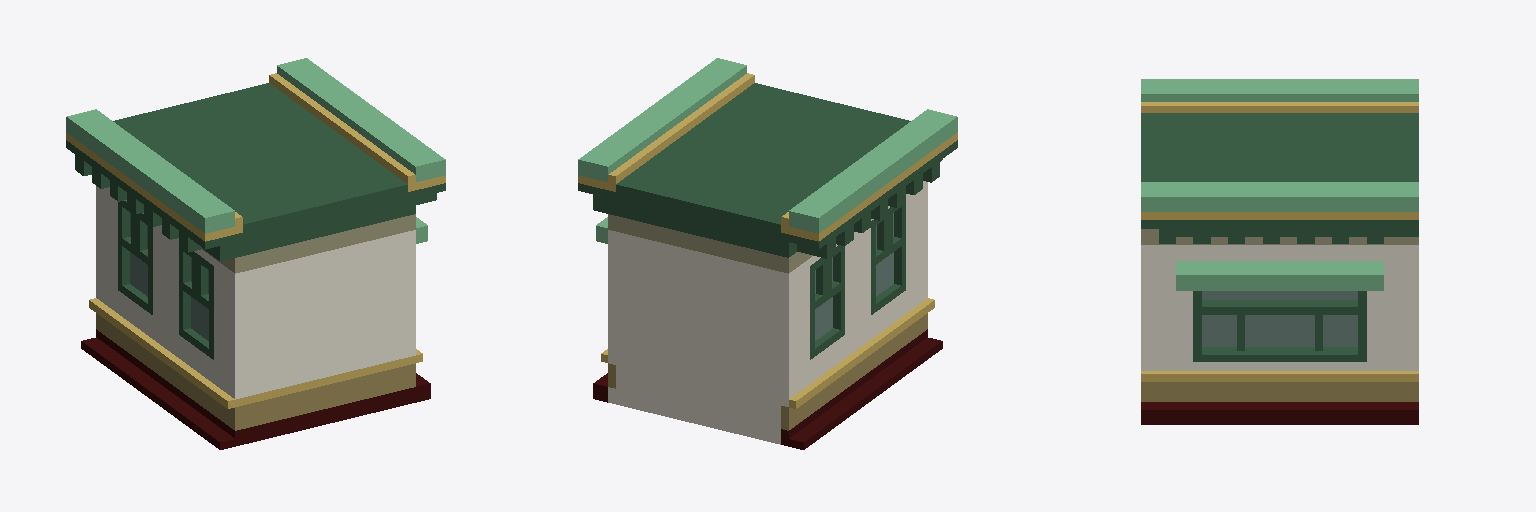
3 views of the same model, side by side, from view 1: azimuth 30°, elevation 25°; view 2: azimuth 150°, elevation 25°; view 3: azimuth 270°, elevation 25° (orthographic).
Visible parts, largest first — view 1: object 1; view 2: object 1; view 3: object 1.
Part boxes in pixels (x1,y1,x2,y2): object 1: (66,58,445,449); object 1: (578,58,957,449); object 1: (1141,79,1418,424).
Bounding box in the file's own units: 3.2 × 3 × 3.2.
1 materials, 1 textured.